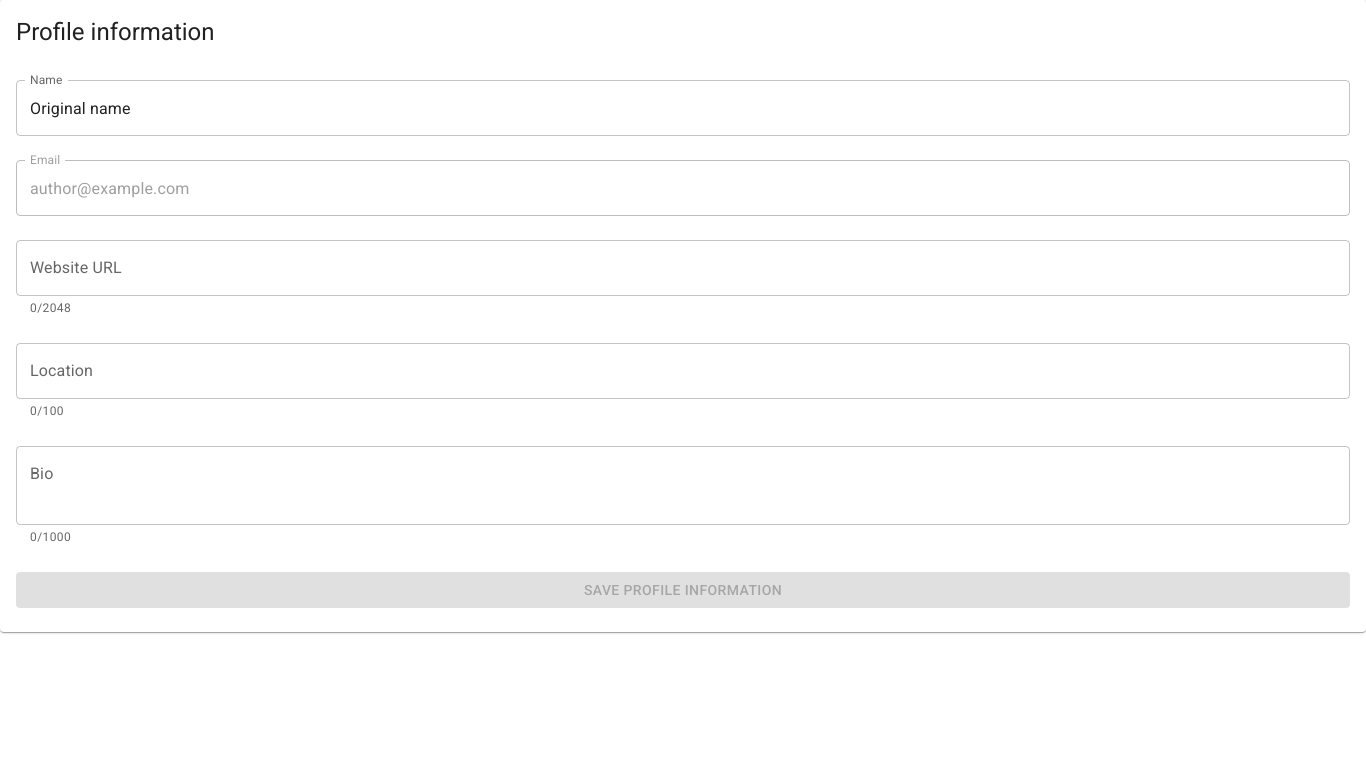
Scenario: uses the confirmed server response as the saved form state
Step 1. Replace the text in the field labelled "Name" with "  Saved name  " → (683, 108), box [16, 80, 1350, 136]
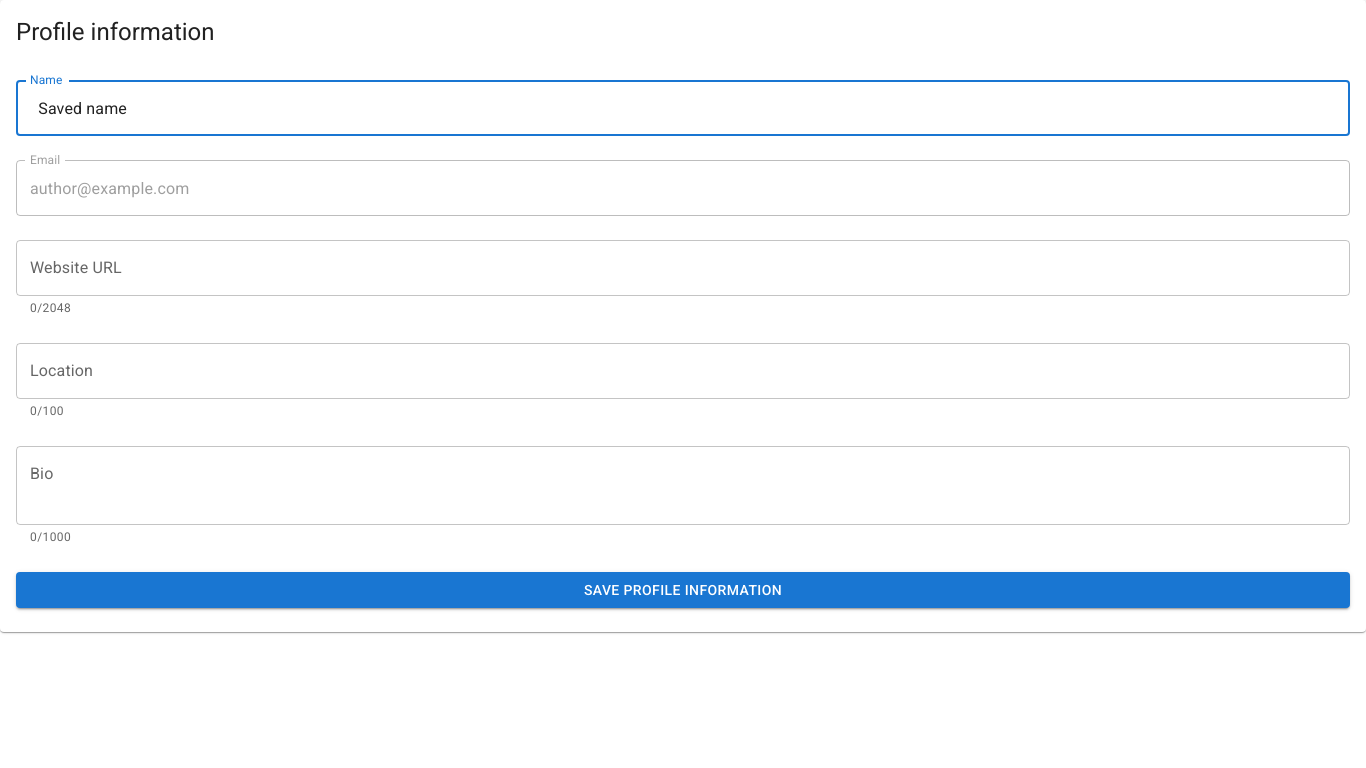
Step 2. Click the button "Save profile information" → click(683, 590), box [16, 572, 1350, 608]
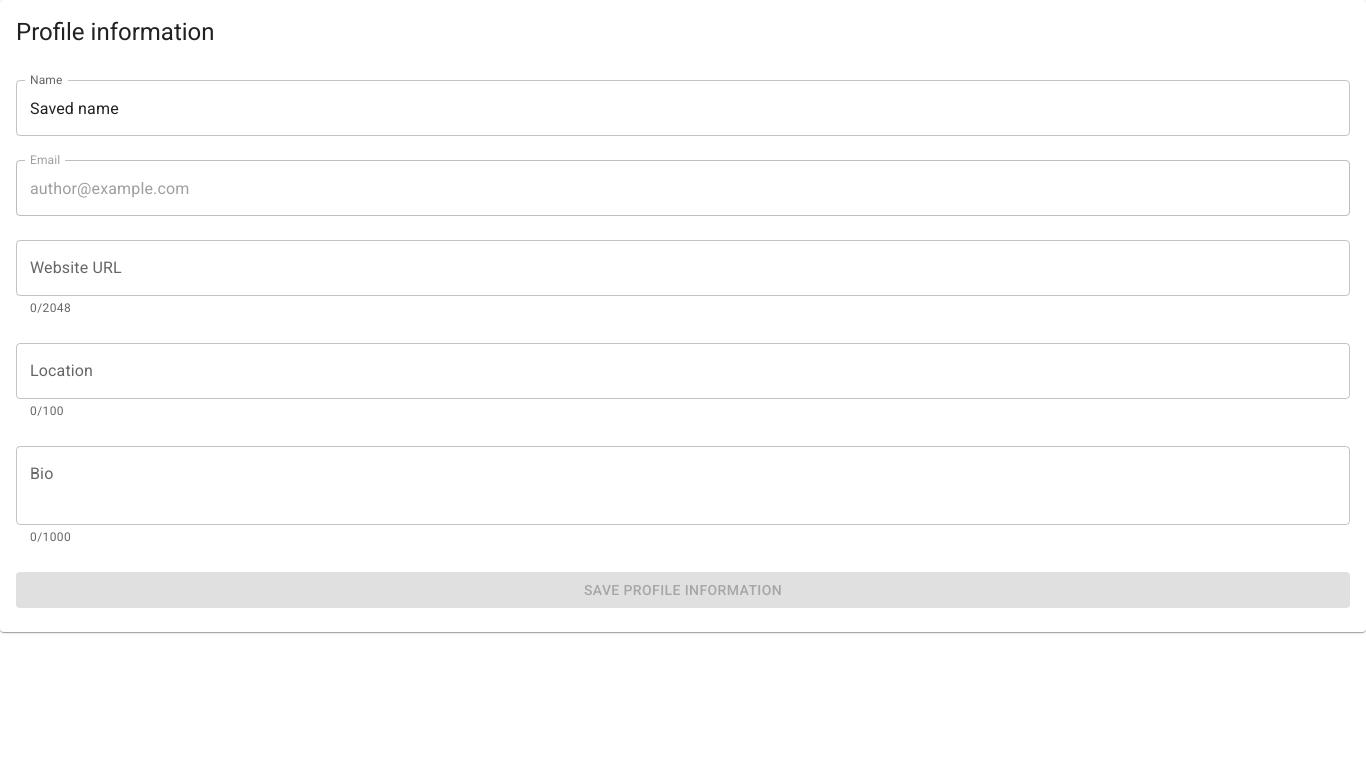
Check: the button "Save profile information" is disabled, box [16, 572, 1350, 608]
